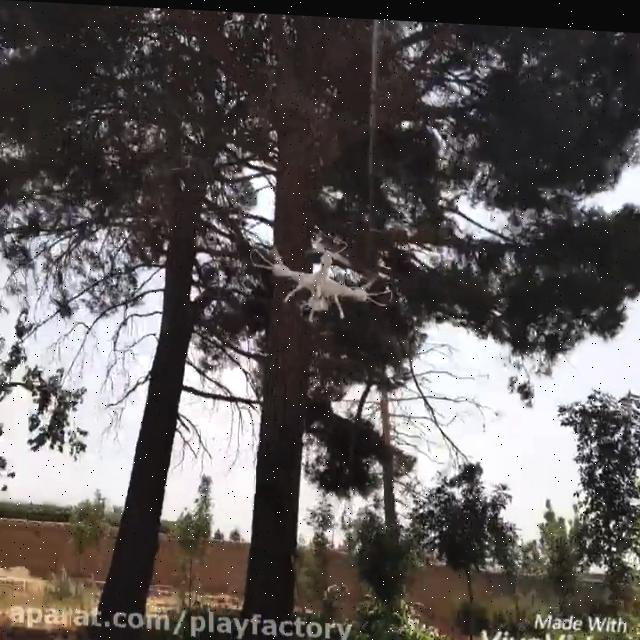drone: (251, 230, 394, 322)
